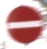No entry: (6, 5, 42, 44)
